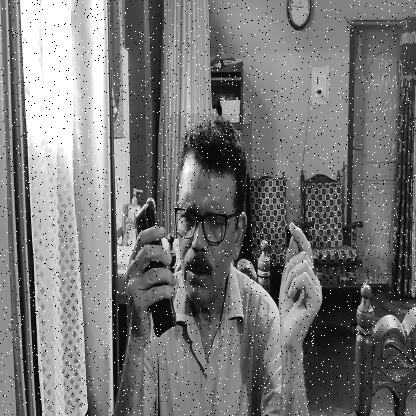Distracted: (171, 114, 252, 314)
